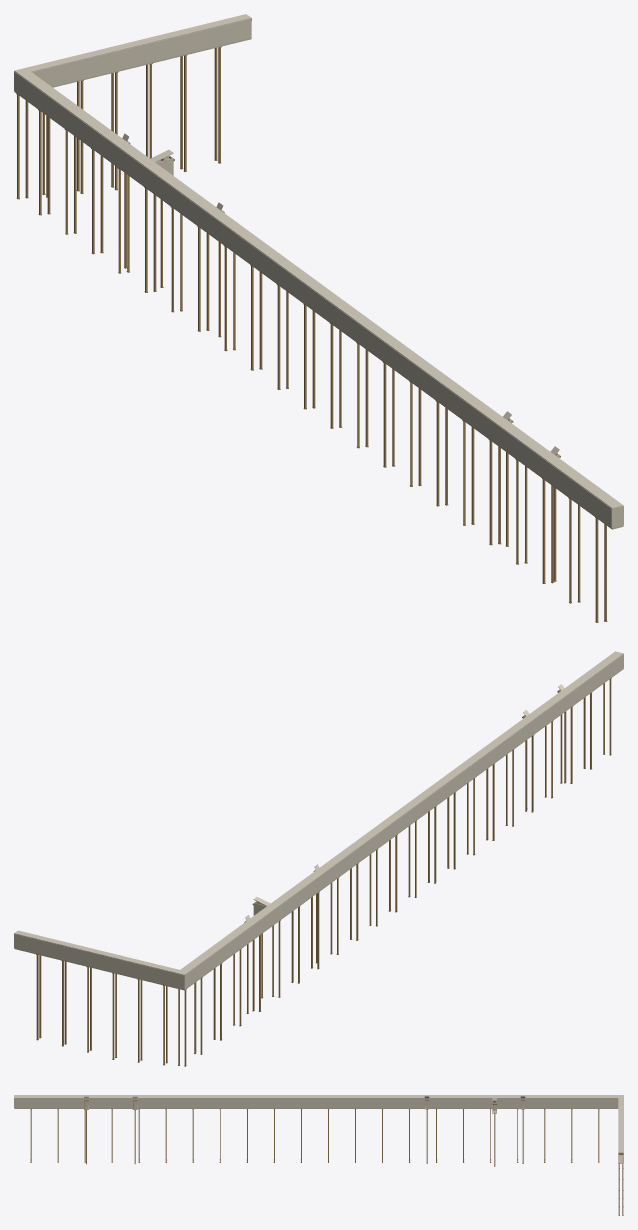
The model's file is D04_PORT_CENTRAL_WEST_STAFF_CIRCUIT_r001.glb.
3 renders of one model, top to bottom at view 1: azimuth 30°, elevation 25°; view 2: azimuth 150°, elevation 25°; view 3: azimuth 270°, elevation 25°, orthographic. The views are drawn at different scales.
Parts seen in each view (by area): view 1: PCW_WestEnclosure, PCW_PerimeterRoof, PCW_CrossWall-99.8, PCW_CrossRoof, PCW_PerimeterFloor; view 2: PCW_WestEnclosure, PCW_PerimeterRoof, PCW_CrossWall-101.4, PCW_CrossRoof, PCW_PerimeterFloor; view 3: PCW_EastEnclosure4, PCW_PerimeterRoof, PCW_EastEnclosure1, PCW_EastEnclosureEnd, PCW_EastEnclosure3, PCW_PerimeterFloor, PCW_EastEnclosure5, PCW_CrossRoof, PCW_EastEnclosure2.
Boxes of the visible parts, x1,y1,x2,y2 form: PCW_WestEnclosure: [14, 71, 612, 527]; PCW_PerimeterRoof: [14, 68, 623, 508]; PCW_CrossWall-99.8: [32, 18, 251, 86]; PCW_CrossRoof: [26, 14, 251, 71]; PCW_PerimeterFloor: [14, 91, 623, 529]; PCW_WestEnclosure: [184, 654, 623, 989]; PCW_PerimeterRoof: [176, 651, 623, 975]; PCW_CrossWall-101.4: [14, 934, 175, 987]; PCW_CrossRoof: [14, 930, 179, 972]; PCW_PerimeterFloor: [176, 668, 623, 990]; PCW_EastEnclosure4: [137, 1098, 424, 1108]; PCW_PerimeterRoof: [14, 1095, 623, 1098]; PCW_EastEnclosure1: [525, 1098, 618, 1108]; PCW_EastEnclosureEnd: [14, 1098, 83, 1108]; PCW_EastEnclosure3: [429, 1098, 492, 1108]; PCW_PerimeterFloor: [14, 1105, 618, 1108]; PCW_EastEnclosure5: [89, 1098, 132, 1108]; PCW_CrossRoof: [618, 1098, 623, 1153]; PCW_EastEnclosure2: [497, 1098, 520, 1108].
Size of the model in its own units: 40.58 by 24.06 by 181.
Materials: 6 (6 with a texture image).
